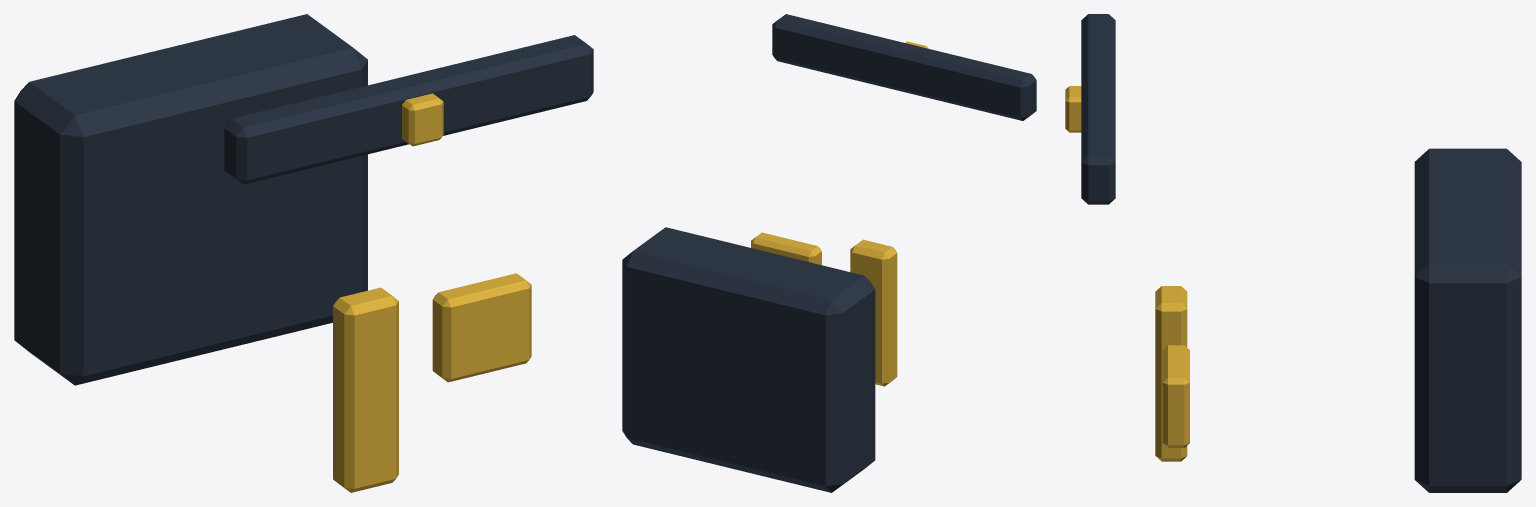
3 views of the same model, side by side, from view 1: azimuth 30°, elevation 25°; view 2: azimuth 150°, elevation 25°; view 3: azimuth 270°, elevation 25° (orthographic). The views are drawn at different scales.
Visible parts, largest first — view 1: vc_torso, vc_head; view 2: vc_torso, vc_head; view 3: vc_torso, vc_head.
Part boxes in pixels (x1,y1,x2,y2): vc_torso: (14, 14, 531, 492); vc_head: (224, 35, 593, 184); vc_torso: (622, 227, 897, 492); vc_head: (772, 14, 1036, 120); vc_torso: (1155, 148, 1521, 492); vc_head: (1065, 14, 1115, 204).
Bounding box in the file's own units: 0.36 × 0.4175 × 0.469.
